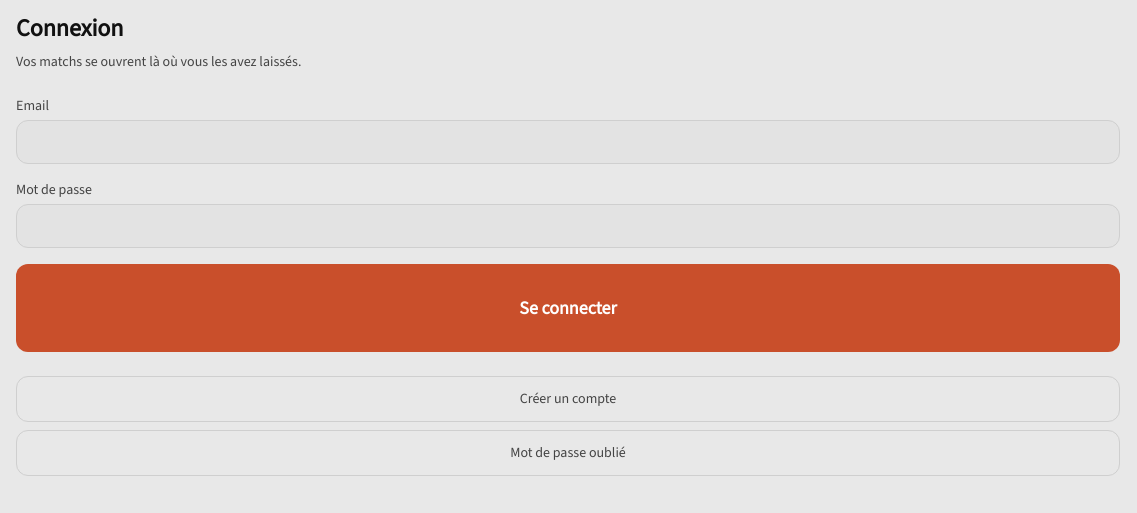
Test: écran d'authentification › bascule vers l'inscription et demande un mot de passe plus long
The width and height of the screenshot is (1137, 513).
Step 1. Click the button "Créer un compte" → (568, 399), box [16,376,1120,422]
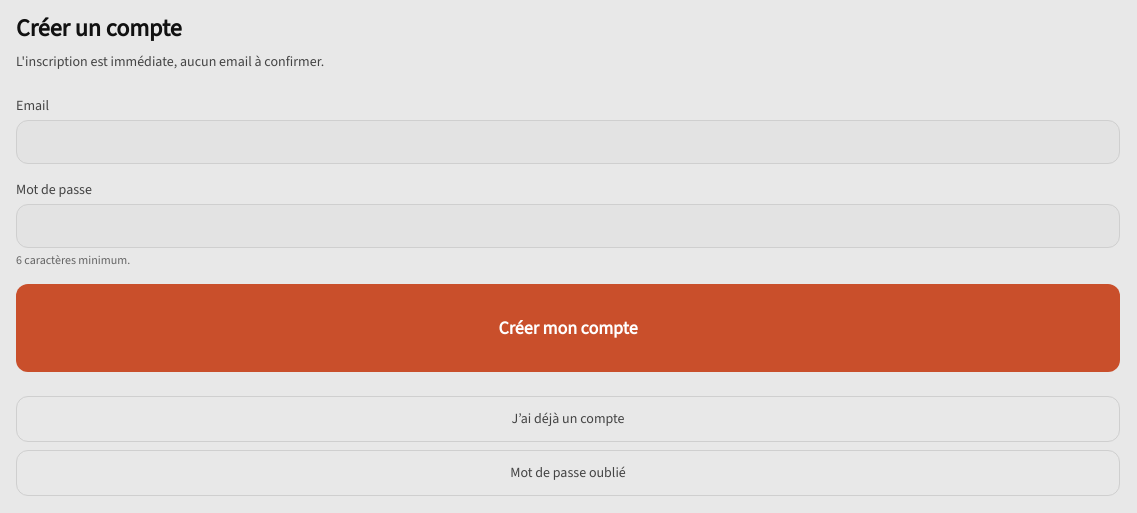
Expected: the heading "Créer un compte" is shown, [16,12,182,44]
Expected: the text "6 caractères minimum." is shown, [16,252,130,268]
